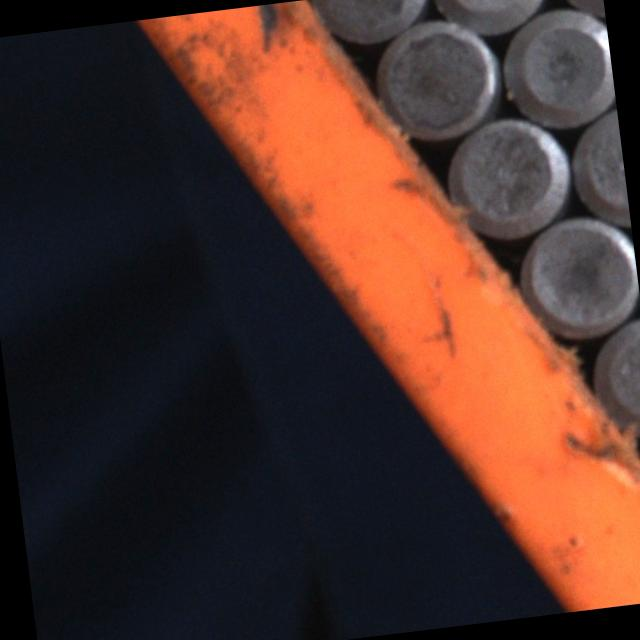tool: (442, 107, 578, 245), (368, 11, 503, 148), (517, 205, 640, 344), (496, 0, 618, 136), (564, 103, 630, 231), (587, 314, 640, 444), (308, 0, 434, 51), (430, 0, 556, 40)
